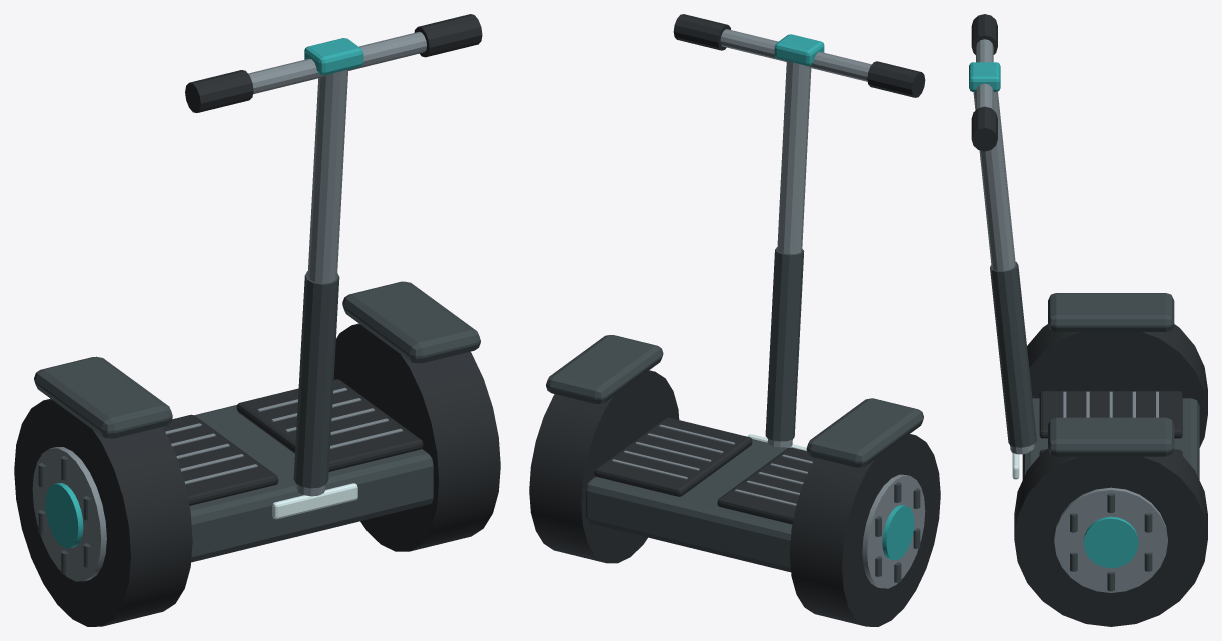
File: DS_Segway_01.glb
The picture shows the model from 3 angles, left to right: view 1: azimuth 30°, elevation 25°; view 2: azimuth 150°, elevation 25°; view 3: azimuth 270°, elevation 25°; orthographic projection. The views are drawn at different scales.
Visible parts, largest first — view 1: Tire_R, Tire_L, Segway_Deck, Column_trim, Wheel_guard_L, Wheel_guard_R, Steering_column, Foot_pad_L, Foot_pad_R, Hub_R, Handlebar, Handle_grip (+4 smaller); view 2: Tire_R, Tire_L, Segway_Deck, Foot_pad_L, Column_trim, Steering_column, Wheel_guard_L, Wheel_guard_R, Foot_pad_R, Hub_R, Handlebar, Handle_grip (+3 smaller); view 3: Tire_L, Tire_R, Hub_L, Column_trim, Wheel_guard_L, Wheel_guard_R, Foot_pad_R, Steering_column, Hubcap_L, Segway_Deck, Handle_grip.001, Control_display (+2 smaller).
Boxes of the visible parts, bbox=[...] form: Tire_R: bbox=[14, 398, 192, 626]; Tire_L: bbox=[333, 323, 500, 551]; Segway_Deck: bbox=[189, 405, 433, 562]; Column_trim: bbox=[293, 271, 339, 488]; Wheel_guard_L: bbox=[342, 281, 480, 363]; Wheel_guard_R: bbox=[34, 356, 172, 438]; Steering_column: bbox=[296, 70, 347, 496]; Foot_pad_L: bbox=[236, 379, 423, 471]; Foot_pad_R: bbox=[163, 414, 278, 505]; Hub_R: bbox=[32, 447, 106, 581]; Handlebar: bbox=[248, 32, 426, 94]; Handle_grip: bbox=[185, 70, 253, 112]; Tire_R: bbox=[790, 434, 940, 626]; Tire_L: bbox=[529, 370, 679, 563]; Segway_Deck: bbox=[586, 439, 792, 572]; Foot_pad_L: bbox=[594, 417, 752, 496]; Column_trim: bbox=[765, 247, 804, 441]; Steering_column: bbox=[767, 61, 811, 447]; Wheel_guard_L: bbox=[546, 335, 663, 404]; Wheel_guard_R: bbox=[806, 398, 923, 467]; Foot_pad_R: bbox=[717, 447, 814, 524]; Hub_R: bbox=[862, 474, 925, 588]; Handlebar: bbox=[720, 29, 871, 81]; Handle_grip: bbox=[867, 61, 925, 97]; Tire_L: bbox=[1014, 449, 1207, 626]; Tire_R: bbox=[1027, 324, 1207, 447]; Hub_L: bbox=[1054, 487, 1167, 592]; Column_trim: bbox=[990, 262, 1036, 447]; Wheel_guard_L: bbox=[1048, 417, 1174, 456]; Wheel_guard_R: bbox=[1048, 293, 1174, 331]; Foot_pad_R: bbox=[1039, 391, 1182, 438]; Steering_column: bbox=[973, 91, 1034, 454]; Hubcap_L: bbox=[1083, 516, 1138, 568]; Segway_Deck: bbox=[1022, 398, 1199, 479]; Handle_grip.001: bbox=[971, 106, 997, 151]; Control_display: bbox=[969, 62, 1000, 91].
Size of the model in its own units: 0.89 by 1.27 by 0.5675.
